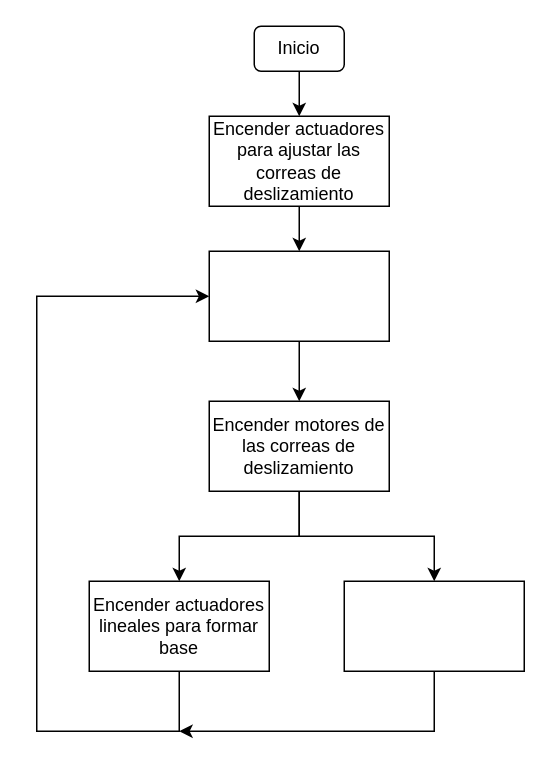
The diagram is 551 pixels wide and 770 high, and some of its shapes have lost their labels. The centre of each missing label's shape, as x and y in pixels:
Encender actuador lineal que sella el lado de la bolsa: the point at 298,295
Encender actuadores lineales para cortar y sellar bolsa: the point at 433,625
